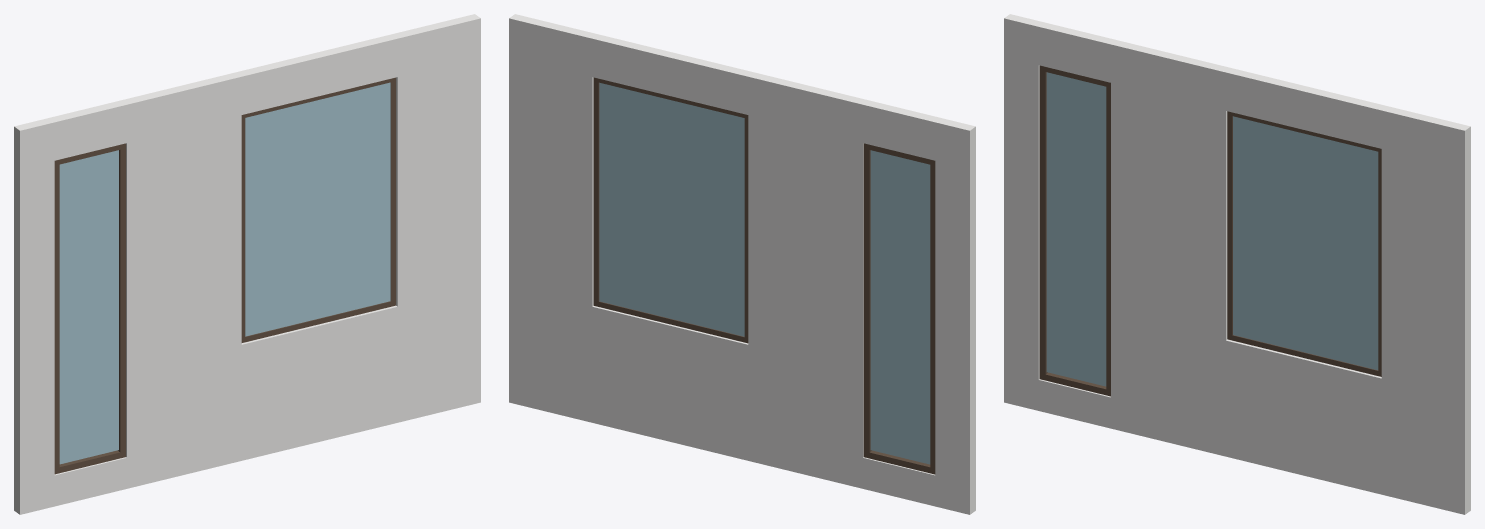
Rendered from Wall_4.fbx.
The picture shows the model from 3 angles, left to right: view 1: azimuth 30°, elevation 25°; view 2: azimuth 150°, elevation 25°; view 3: azimuth 330°, elevation 25°; orthographic projection.
Visible parts, largest first — view 1: Wall_4; view 2: Wall_4; view 3: Wall_4.
Part boxes in pixels (box(x1,y1,x2,y2)): Wall_4: box(14, 14, 480, 514); Wall_4: box(509, 14, 975, 514); Wall_4: box(1004, 14, 1470, 514).
Bounding box in the file's own units: 489 × 11 × 390.
